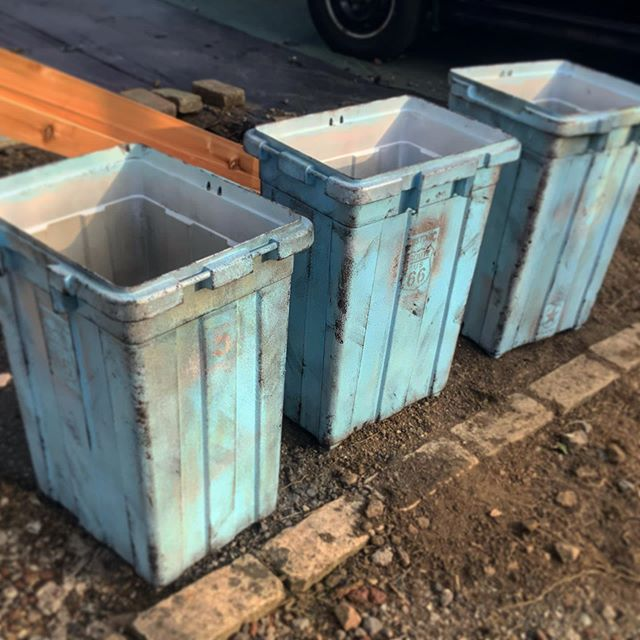trash can: (1, 147, 278, 603), (242, 85, 505, 429), (457, 43, 640, 347)
